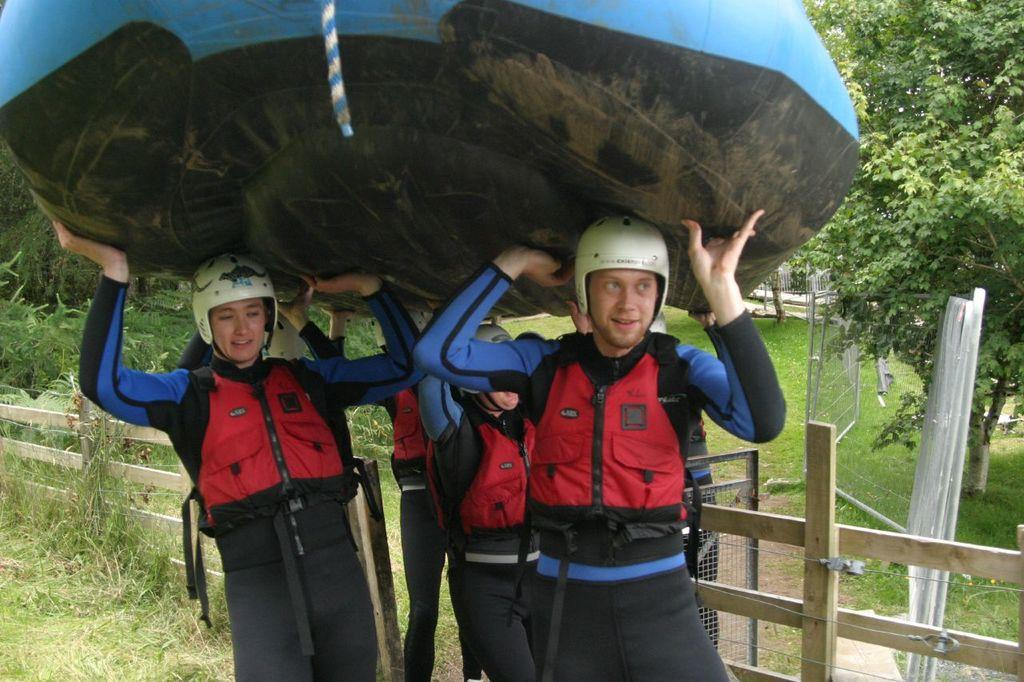helmet: (573, 214, 670, 347), (191, 253, 279, 361)
